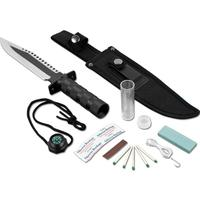knife: (1, 34, 103, 112)
